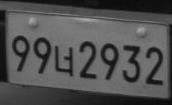2: (144, 45, 163, 86), (78, 40, 97, 79)
3: (122, 43, 141, 82)
9: (32, 35, 52, 74), (99, 42, 119, 80), (10, 34, 30, 71)
너: (53, 45, 73, 77)
